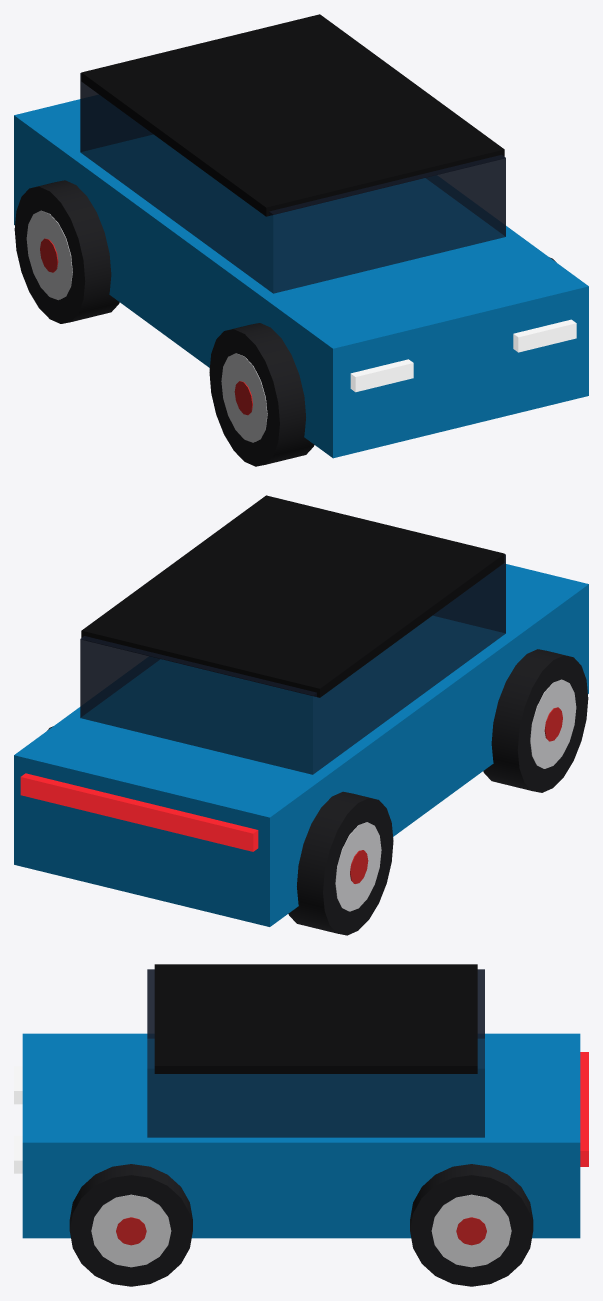
The model's file is mustang_mache.glb.
The picture shows the model from 3 angles, top to bottom: view 1: azimuth 30°, elevation 25°; view 2: azimuth 150°, elevation 25°; view 3: azimuth 270°, elevation 25°; orthographic projection. The views are drawn at different scales.
Bounding box in the file's own units: 0.5451 × 0.3954 × 1.
